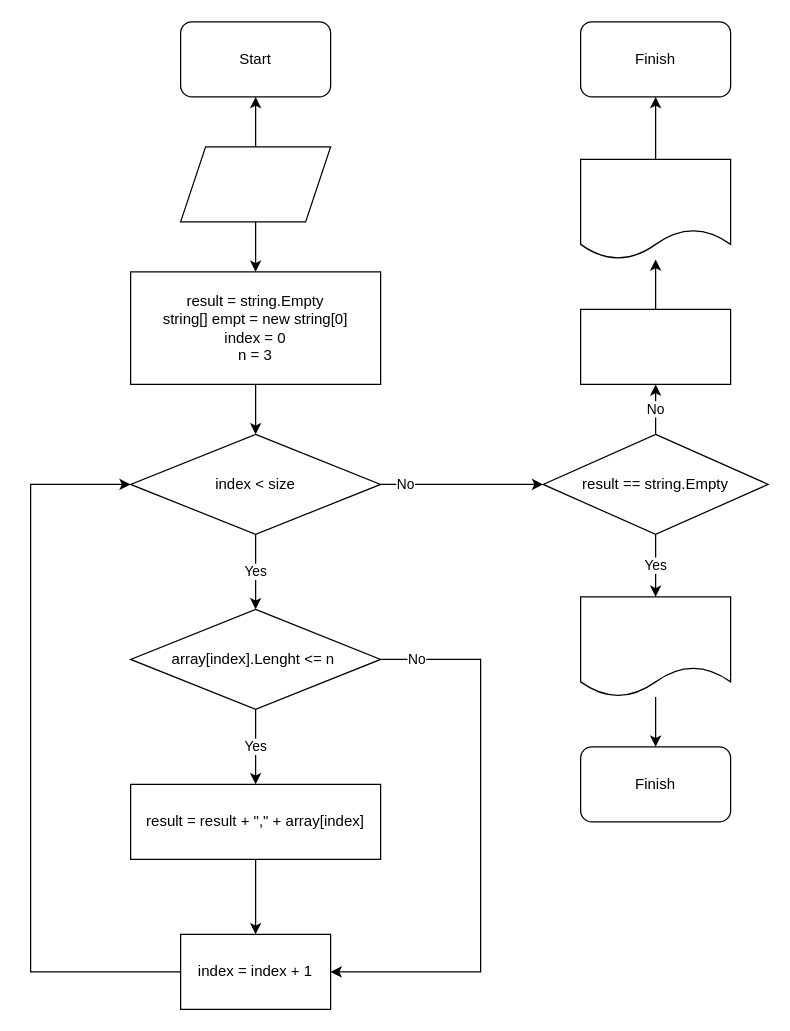
Image size: 790x1031. Some labels were removed from this diagram. Here are the shapes that lost their labels. From the top down, the centre of each, then its label:
At point 255,184: "array[size]".
At point 655,208: "result".
At point 655,346: "result.Split(',')".
At point 655,646: "empt".
